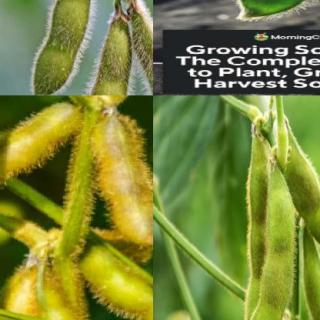soya: (90, 116, 152, 247), (246, 173, 295, 319), (0, 105, 81, 192), (32, 0, 94, 95), (53, 19, 131, 94), (81, 248, 152, 320), (243, 138, 269, 320), (288, 126, 319, 250), (37, 270, 94, 319), (236, 0, 316, 18)
